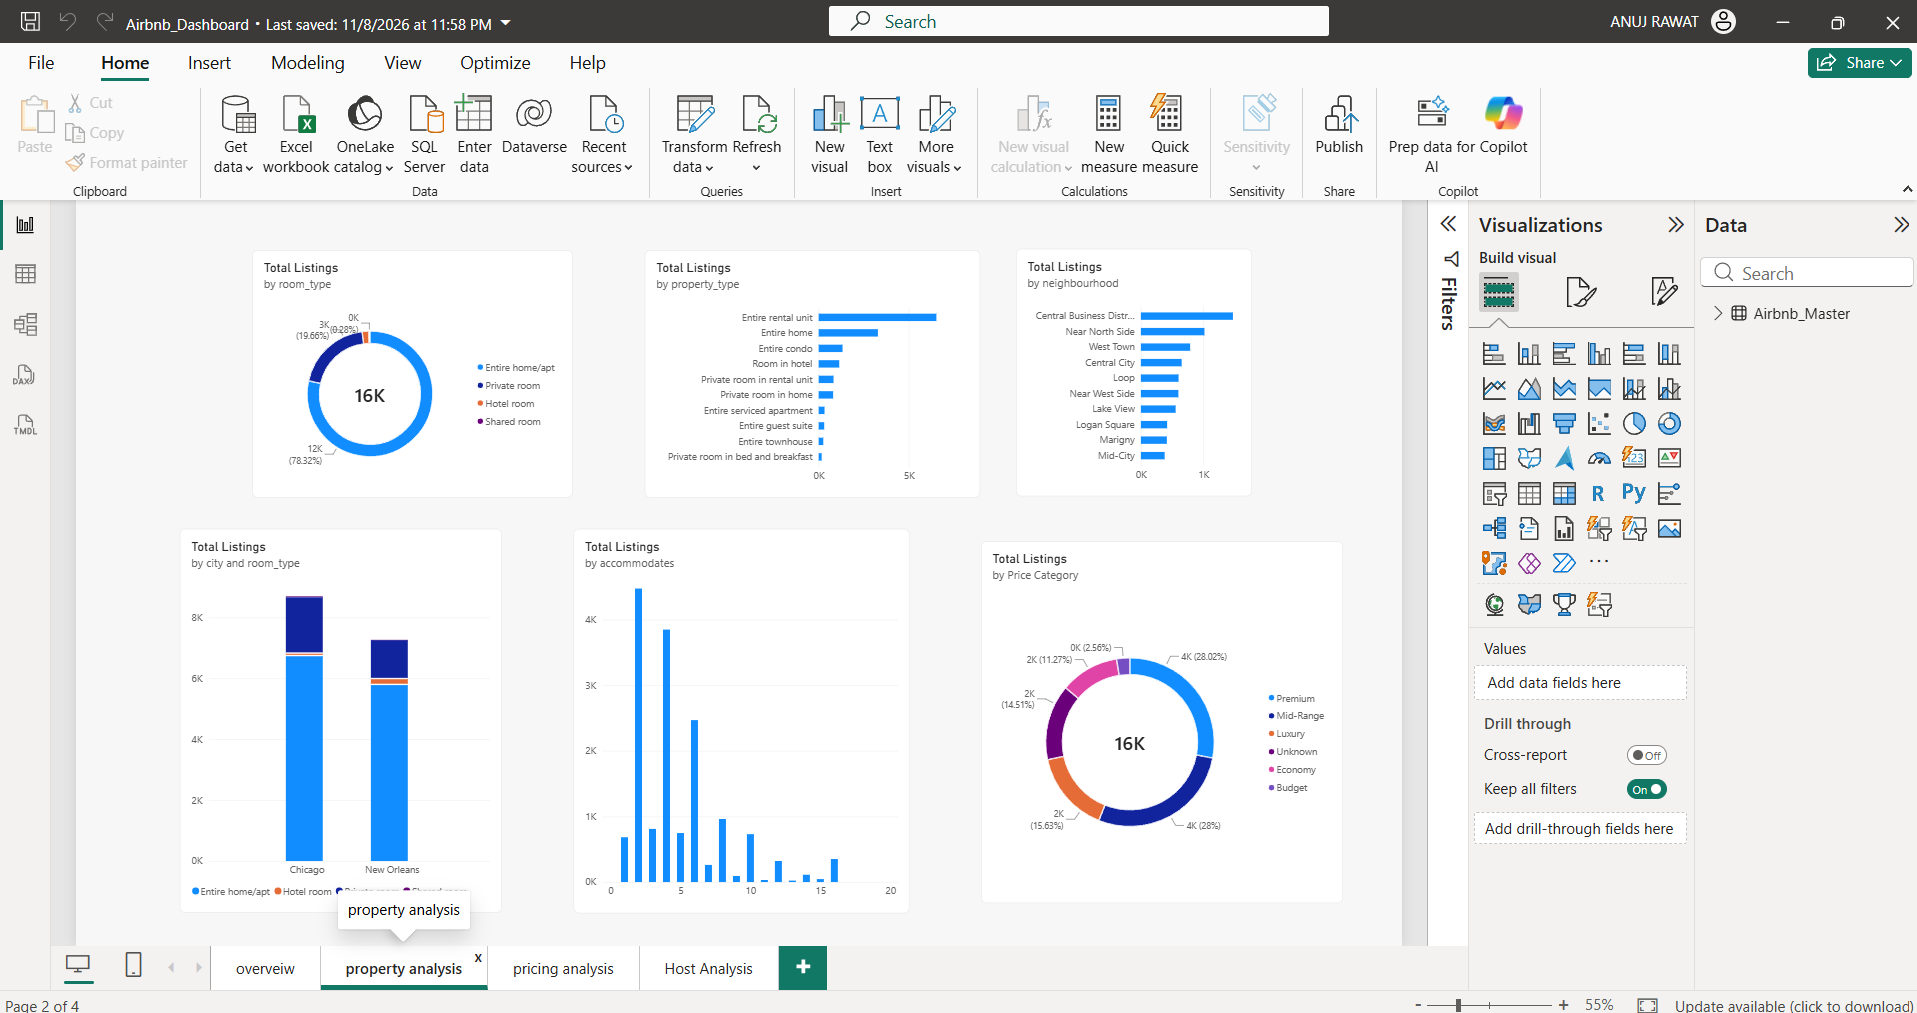

What the dashboard file says about the page in this screenshot:
{"tool":"powerbi","page":{"name":"property analysis","canvas":[1920,1080],"ordinal":1},"visuals":[{"type":"donutChart","fields":{"Category":["Airbnb_Master.room_type"],"Y":["Airbnb_Master.Total Listings"]},"box":[255.7,72.9,464.3,358.6],"z":0},{"type":"clusteredBarChart","fields":{"Category":["Airbnb_Master.property_type"],"Y":["Airbnb_Master.Total Listings"]},"box":[824.3,72.9,485.7,358.6],"z":1000},{"type":"clusteredBarChart","fields":{"Category":["Airbnb_Master.neighbourhood"],"Y":["Airbnb_Master.Total Listings"]},"box":[1360,71.4,341.4,358.6],"z":2000},{"type":"columnChart","fields":{"Category":["Airbnb_Master.city"],"Series":["Airbnb_Master.room_type"],"Y":["Airbnb_Master.Total Listings"]},"box":[150,476.7,466.2,556.2],"z":3000},{"type":"donutChart","fields":{"Category":["Airbnb_Master.Price Category"],"Y":["Airbnb_Master.Total Listings"]},"box":[1310,493.3,523.8,523.8],"z":4000},{"type":"columnChart","fields":{"Category":["Airbnb_Master.accommodates"],"Y":["Airbnb_Master.Total Listings"]},"box":[720,476.7,486.7,556.7],"z":5000}]}

Visuals, with their boxes on the page's 1920x1080 design canvas (x1, y1, x2, y2). These are canvas units, not pixel positions in the 1917x1013 screenshot, which may show the page scaled, cropped or inside an application window:
donutChart - Airbnb_Master.room_type x Airbnb_Master.Total Listings: box(256, 73, 720, 432)
clusteredBarChart - Airbnb_Master.property_type x Airbnb_Master.Total Listings: box(824, 73, 1310, 432)
clusteredBarChart - Airbnb_Master.neighbourhood x Airbnb_Master.Total Listings: box(1360, 71, 1701, 430)
columnChart - Airbnb_Master.city x Airbnb_Master.room_type: box(150, 477, 616, 1033)
donutChart - Airbnb_Master.Price Category x Airbnb_Master.Total Listings: box(1310, 493, 1834, 1017)
columnChart - Airbnb_Master.accommodates x Airbnb_Master.Total Listings: box(720, 477, 1207, 1033)
